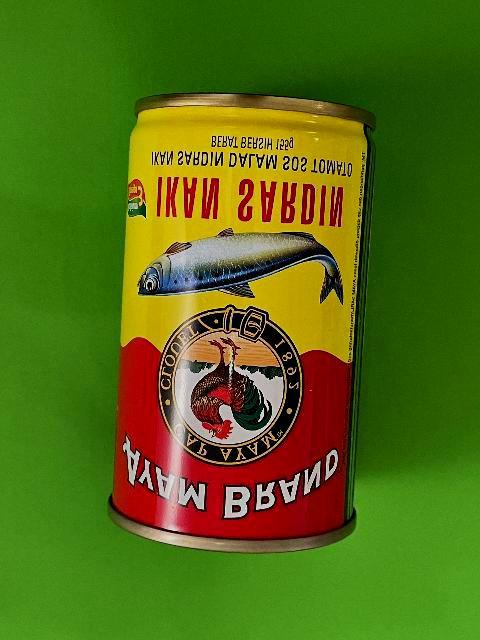foodcan: (106, 90, 378, 556)
